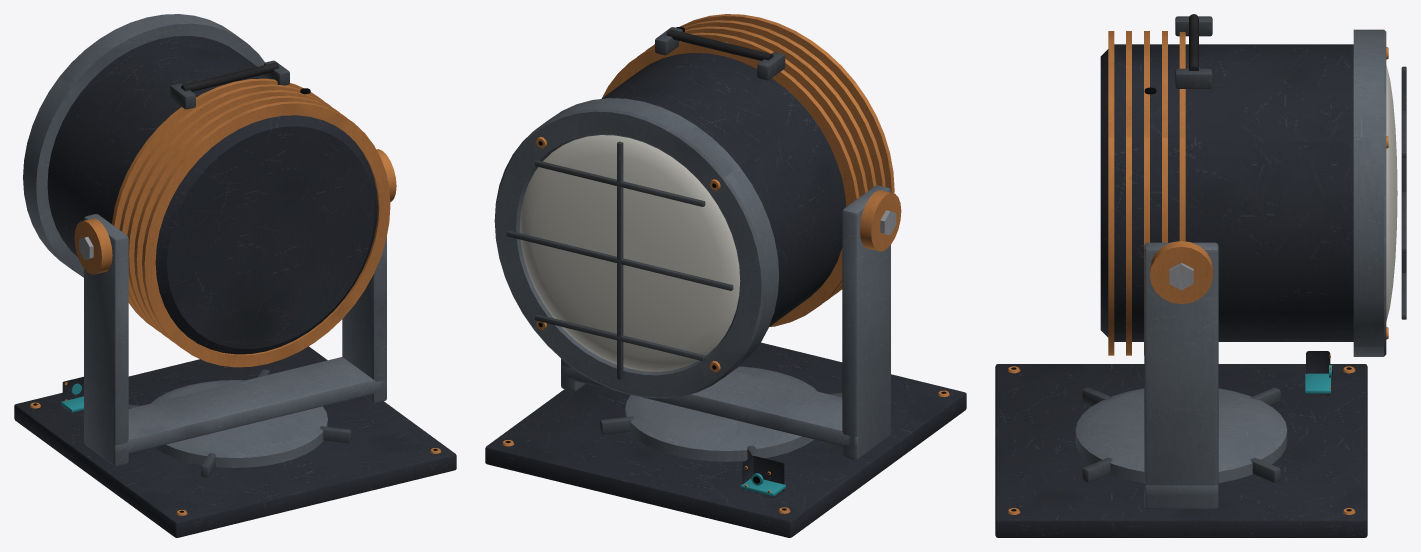
File: warehouse_spotlight.glb
3 renders of one model, left to right at view 1: azimuth 30°, elevation 25°; view 2: azimuth 150°, elevation 25°; view 3: azimuth 270°, elevation 25°, orthographic. The views are drawn at different scales.
Visible parts, largest first — view 1: Body; view 2: Body; view 3: Body.
Boxes of the visible parts, box(x1,y1,x2,y2) form: Body: box(14, 14, 456, 537); Body: box(485, 14, 966, 537); Body: box(995, 14, 1406, 537).
Bounding box in the file's own units: 0.6428 × 0.747 × 0.6628.
12 materials, 6 textured.
